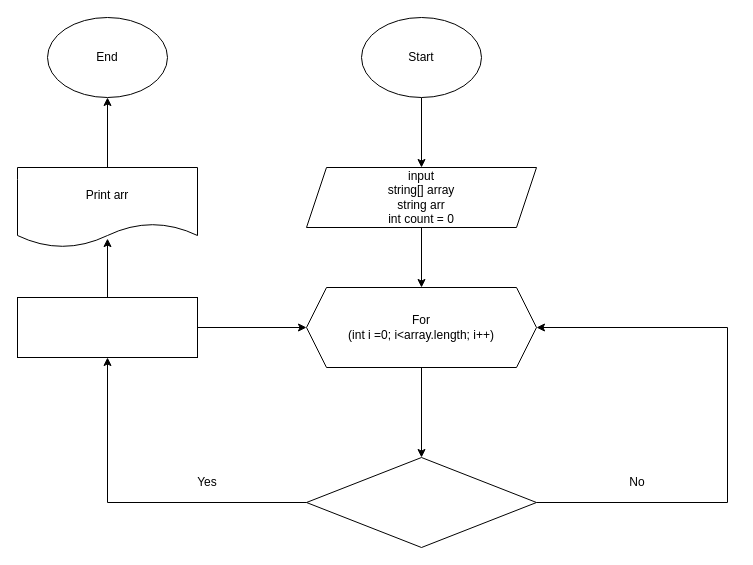
Image size: 753x565. Some labels were removed from this diagram. Each missing label, with the box of its shape:
arr[count] = array[i]; count++;: (16, 296, 198, 358)
If (array[i].length <=3): (306, 456, 536, 548)
